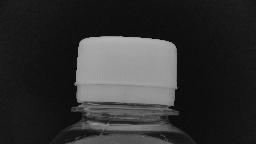Good Cap: (66, 32, 184, 119)
